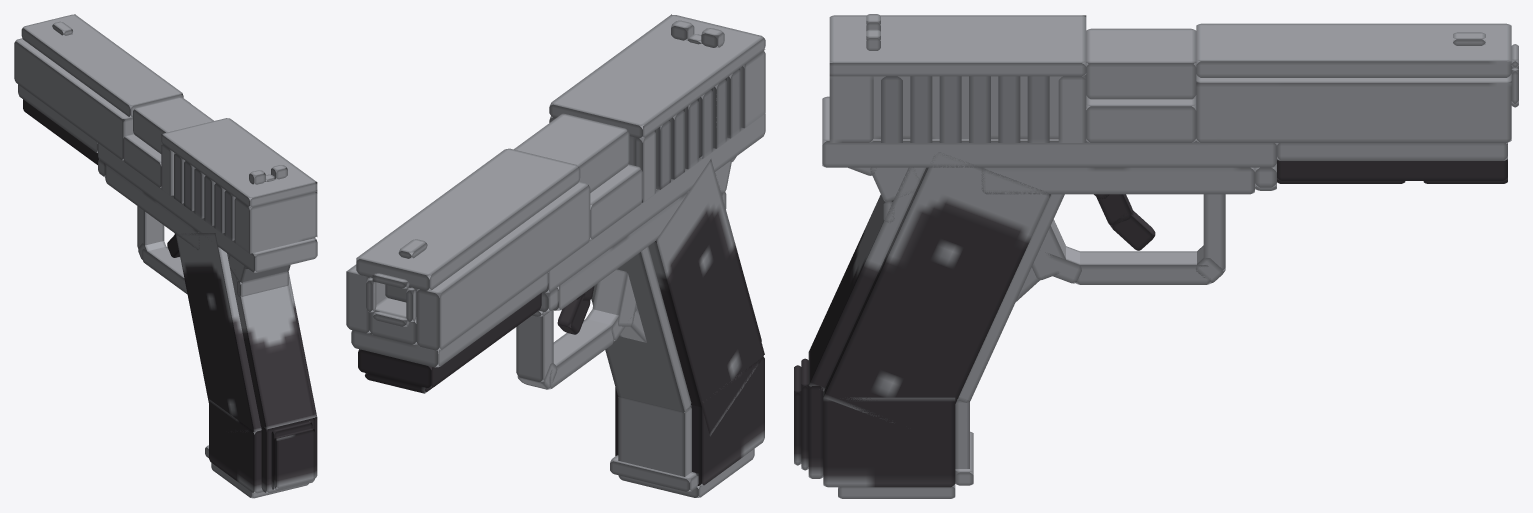
File: pistol.fbx
3 views of the same model, side by side, from view 1: azimuth 30°, elevation 25°; view 2: azimuth 150°, elevation 25°; view 3: azimuth 270°, elevation 25° (orthographic). The views are drawn at different scales.
Parts seen in each view (by area): view 1: Pistol; view 2: Pistol; view 3: Pistol.
Part boxes in pixels (x1,y1,x2,y2): Pistol: (14, 14, 317, 498); Pistol: (346, 14, 765, 497); Pistol: (794, 14, 1518, 498).
Bounding box in the file's own units: 0.0962 × 0.4257 × 0.6177.
